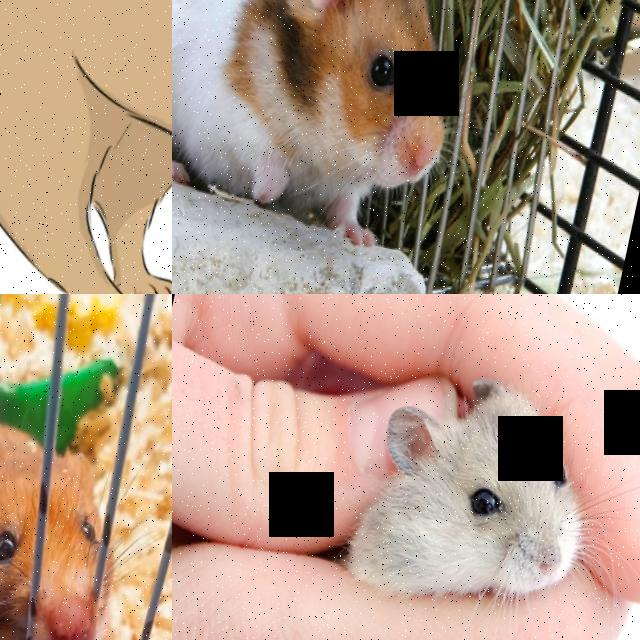hamster: (172, 0, 492, 257), (338, 356, 612, 628), (0, 0, 172, 294), (0, 403, 151, 640)
